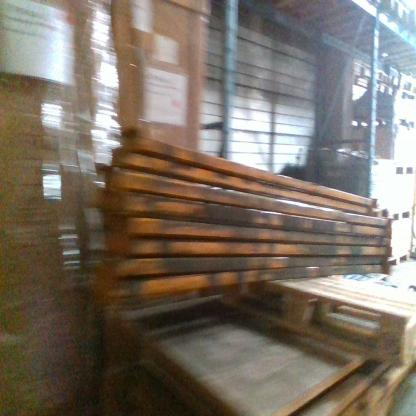pallet: (220, 274, 416, 367), (353, 62, 416, 94), (354, 75, 416, 105), (380, 0, 411, 28), (387, 252, 409, 271), (393, 115, 416, 132), (394, 163, 416, 177), (390, 208, 411, 222)
